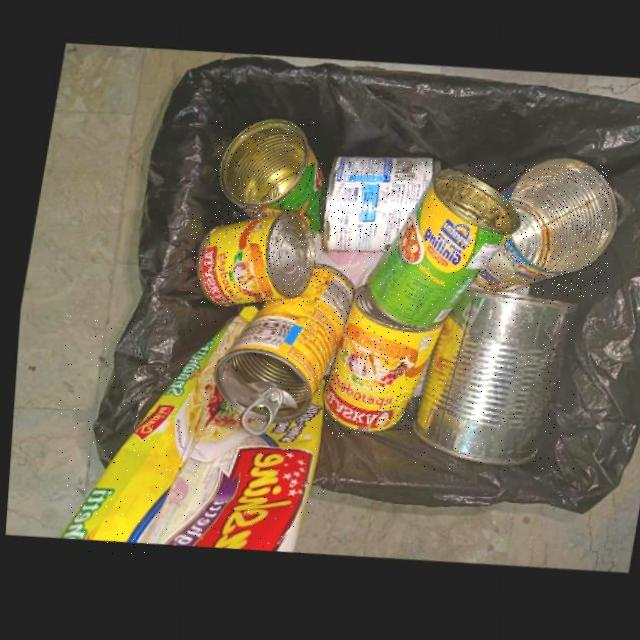metal: (409, 296, 574, 471), (209, 267, 350, 437), (364, 173, 515, 331), (468, 164, 610, 297), (320, 287, 438, 435), (212, 121, 318, 239), (191, 214, 309, 309), (317, 160, 434, 255)
wrapper: (59, 307, 325, 554)
